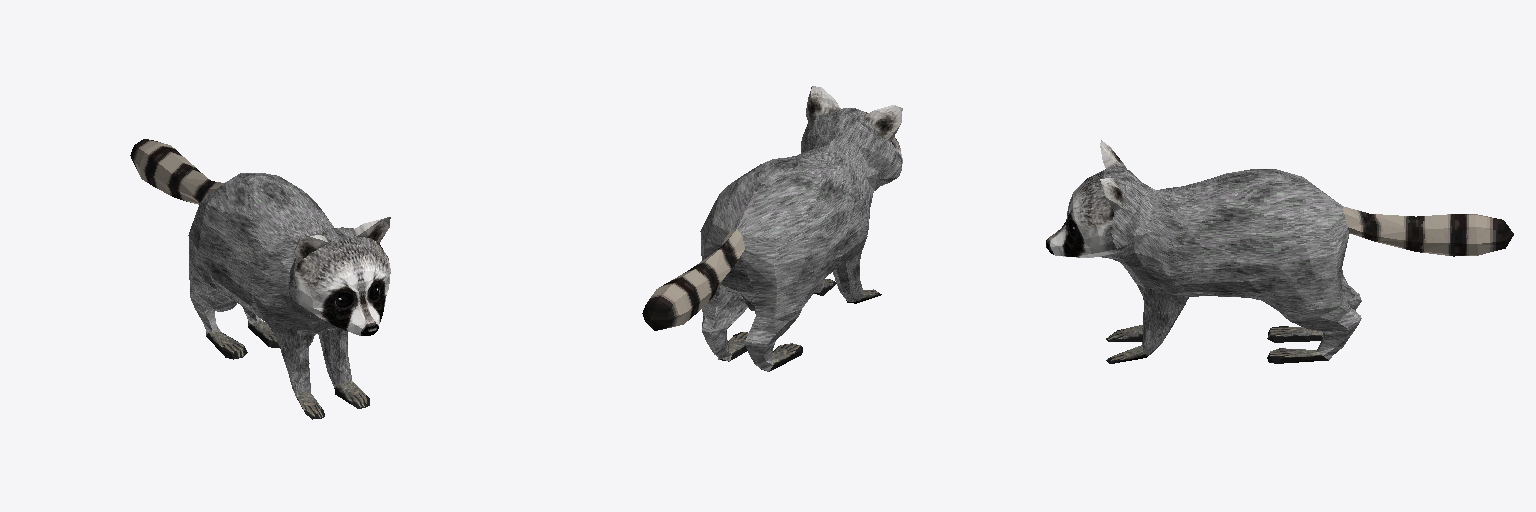
3 renders of one model, left to right at view 1: azimuth 30°, elevation 25°; view 2: azimuth 150°, elevation 25°; view 3: azimuth 270°, elevation 25°, orthographic.
Visible parts, largest first — view 1: Mesh_00682, Mesh_0065; view 2: Mesh_00682, Mesh_0065; view 3: Mesh_00682, Mesh_0065.
Part boxes in pixels (x1,y1,x2,y2): Mesh_00682: (188,173,355,397); Mesh_0065: (130,139,390,419); Mesh_00682: (700,108,901,371); Mesh_0065: (642,86,902,371); Mesh_00682: (1102,166,1361,359); Mesh_0065: (1046,140,1513,363).
Size of the model in its own units: 7.6 by 11.41 by 25.75.
2 materials, 2 textured.